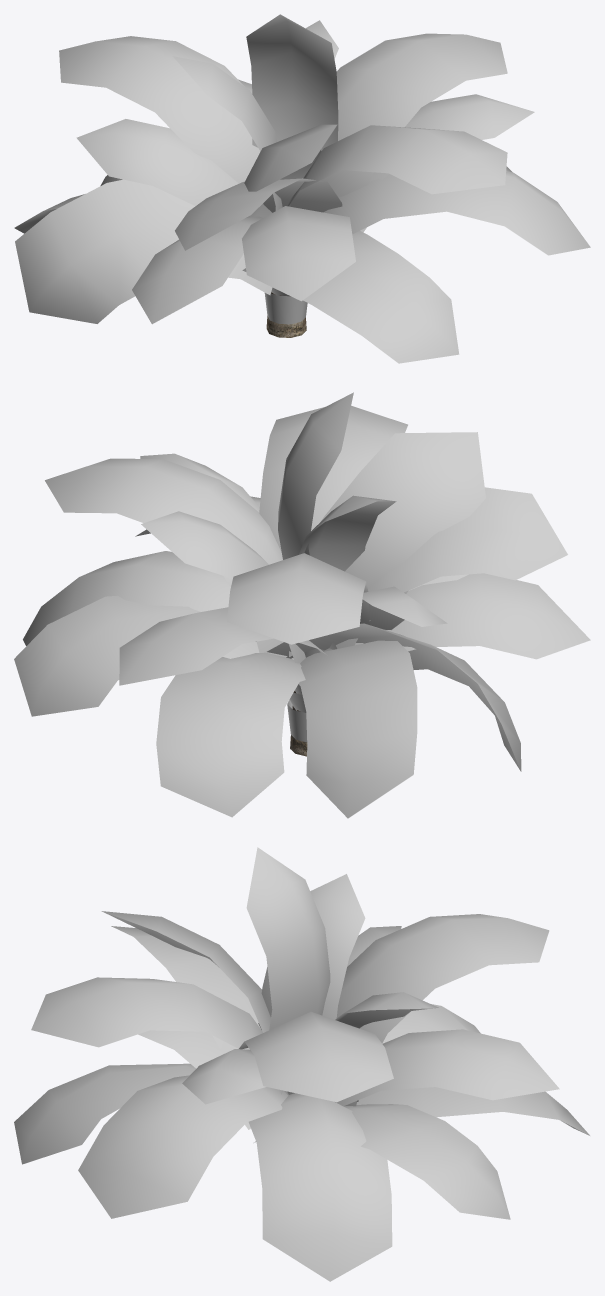
Rendered from palm1.fbx.
3 views of the same model, one above another, from view 1: azimuth 30°, elevation 25°; view 2: azimuth 150°, elevation 25°; view 3: azimuth 270°, elevation 25° (orthographic). The views are drawn at different scales.
Parts seen in each view (by area): view 1: polySurface480; view 2: polySurface480; view 3: polySurface480.
Part boxes in pixels (bbox=[...]): polySurface480: bbox=[14, 14, 590, 363]; polySurface480: bbox=[14, 392, 590, 818]; polySurface480: bbox=[14, 847, 589, 1281].
Bounding box in the file's own units: 19.08 × 12.47 × 18.79.
